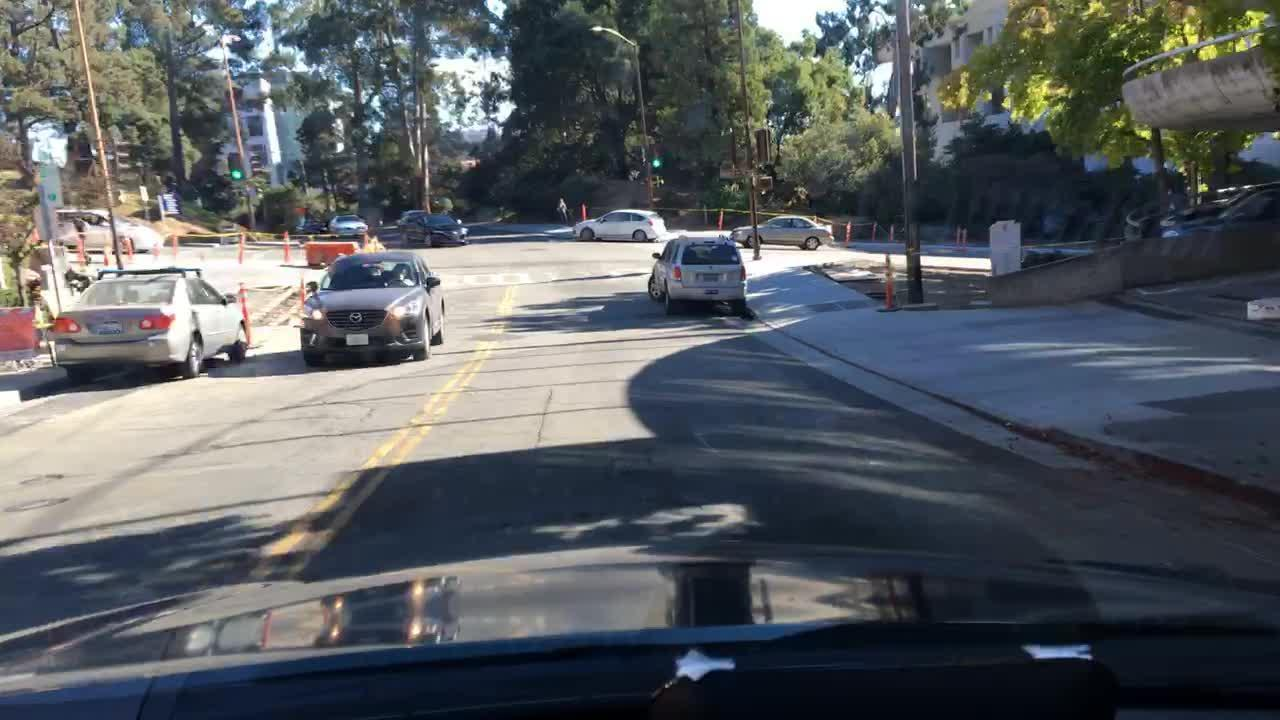Mazda: (346, 310, 365, 325)
